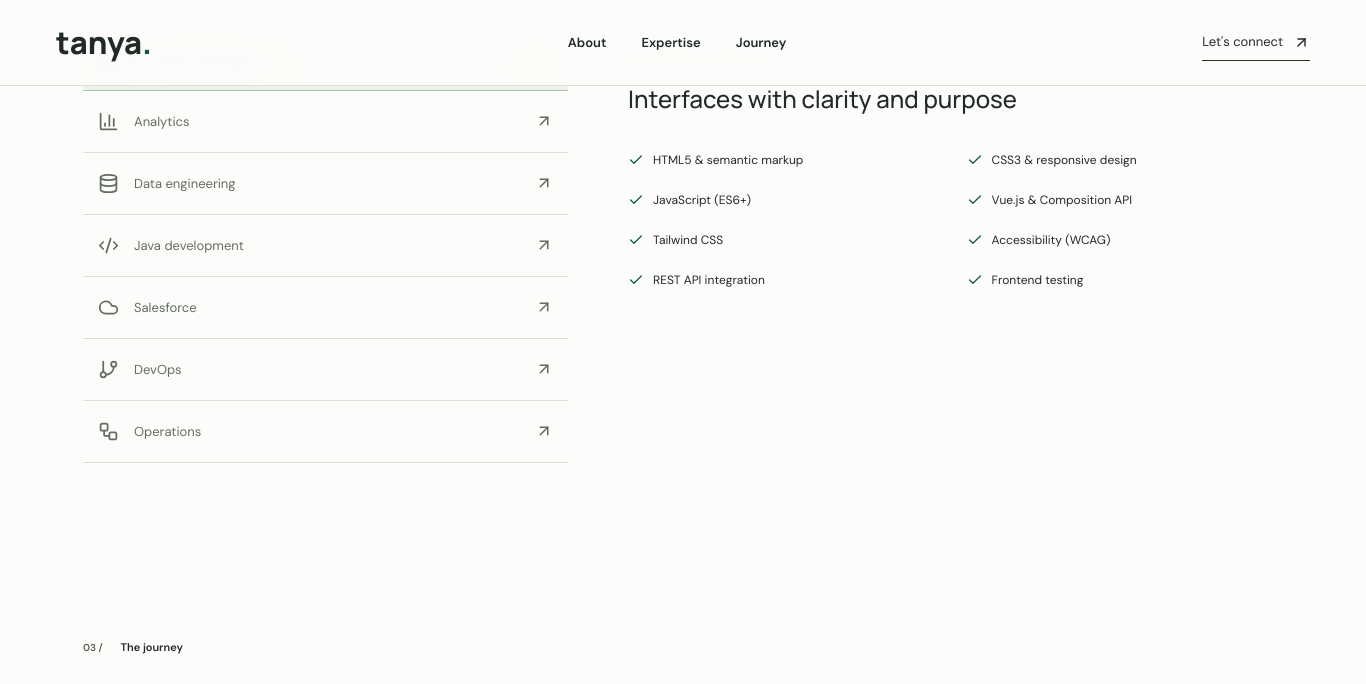
Test: shows general application support and operations with ITIL practices
(page scrolled)
Step 1. Click the tab with id "tab-operations" → (168, 431), box 83,401 -> 568,463
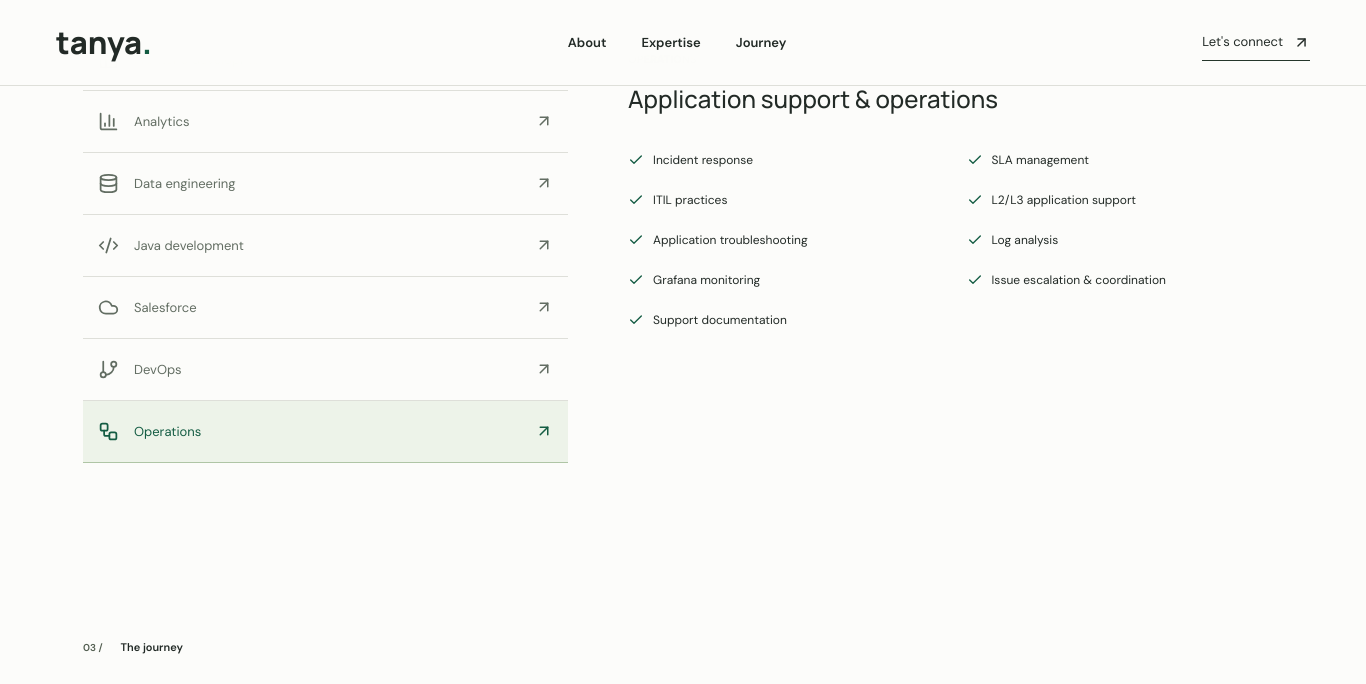
Expected: the panel shows "Application support & operations", 628,82 -> 998,115
Expected: the panel shows "Incident response", 653,152 -> 753,168
Expected: the panel shows "SLA management", 992,152 -> 1089,168
